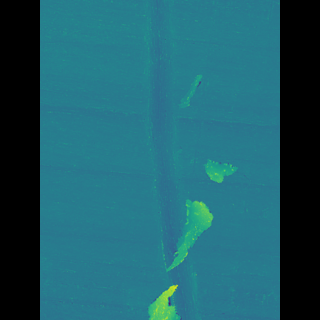Loch: (145, 0, 196, 320), (163, 197, 201, 274), (146, 285, 176, 320), (191, 155, 221, 188)
